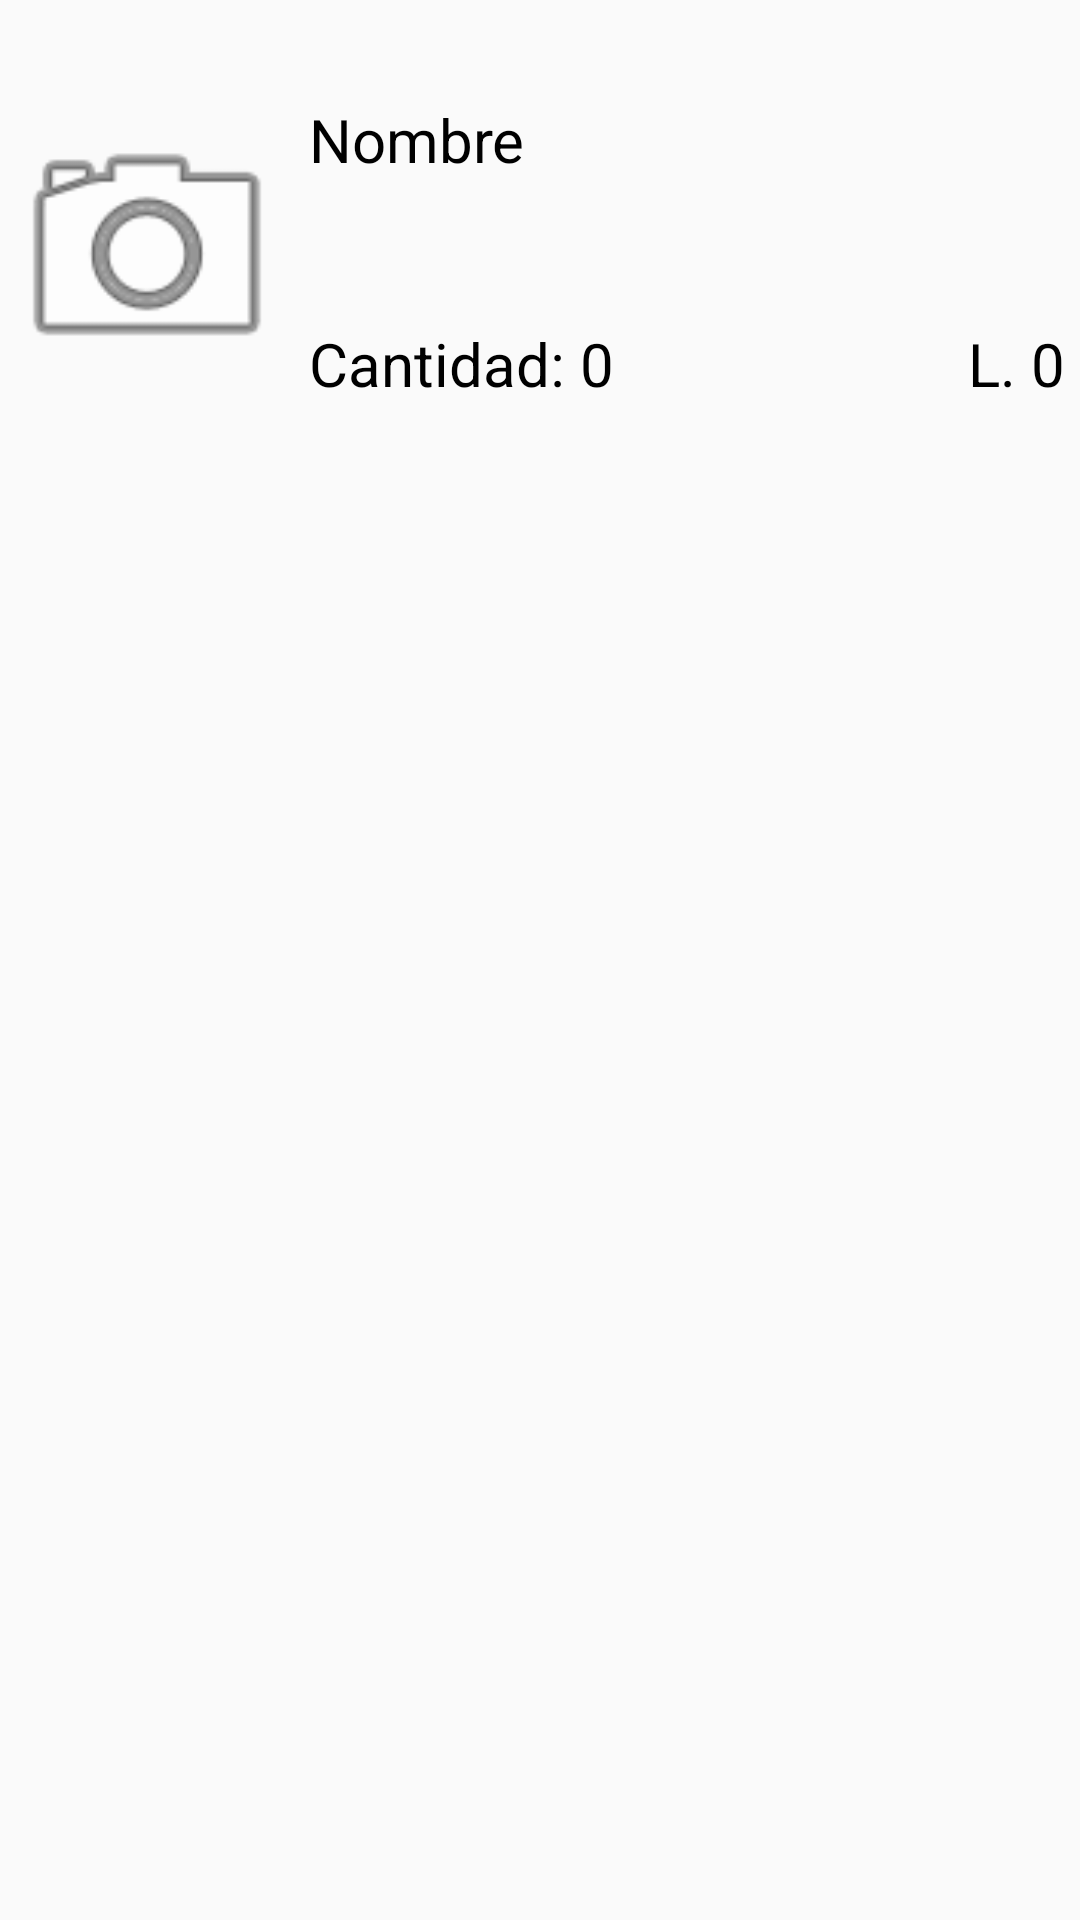

Icon bounding boxes for this 1080 x 1920 phone screenshot, format (x1, y1, x2, y2):
camera: (33, 154, 261, 335)
